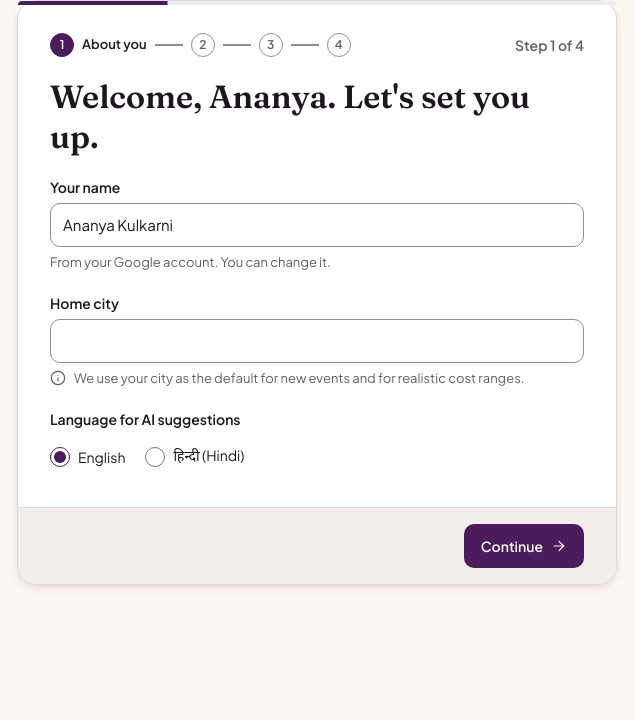
it: OnboardingWizard › asks for name and city first, with an error summary that stays in sync
expect the heading "Welcome, Ananya. Let's set you up." is shown: met, box x1=50 y1=77 x2=584 y2=157
expect the field labelled "Your name" holds "Ananya Kulkarni": met, box x1=50 y1=203 x2=584 y2=247
Click the button "Continue": x=524, y=546 x1=464 y1=524 x2=584 y2=568
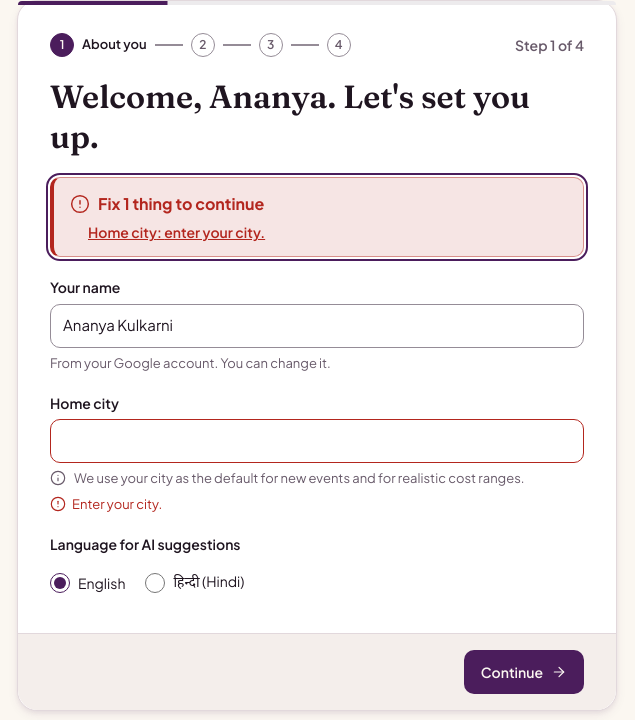
expect the message shows "Fix 1 thing to continue": met, box x1=98 y1=193 x2=264 y2=214
In the dropdown labelled "Home city": x=317, y=441 x1=50 y1=419 x2=584 y2=463, type "Pune"
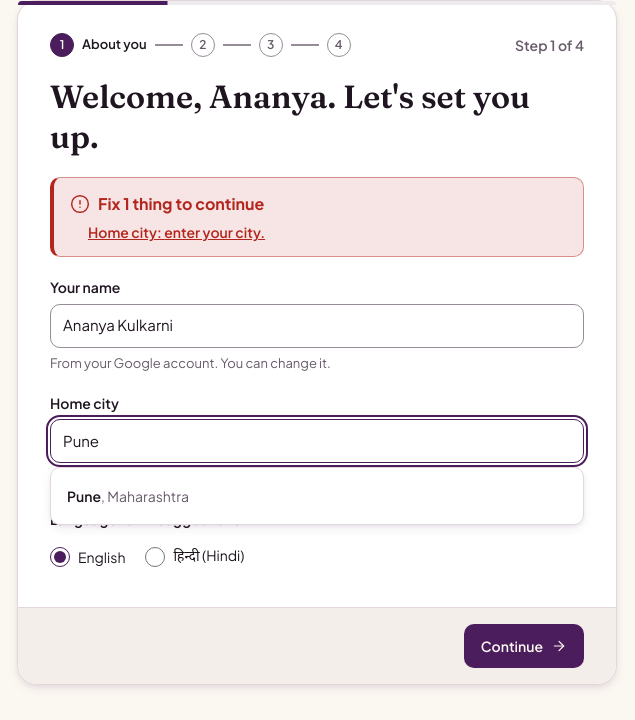
expect the dropdown labelled "Home city" does not have attribute aria-invalid: met, box x1=50 y1=419 x2=584 y2=463
Clear the field labelled "Your name": x=317, y=326 x1=50 y1=304 x2=584 y2=348
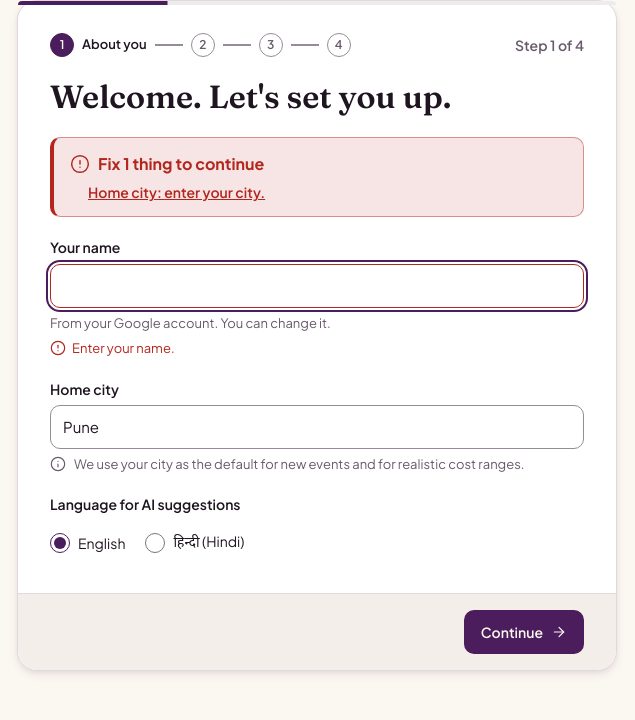
Click the button "Continue": x=524, y=632 x1=464 y1=610 x2=584 y2=654
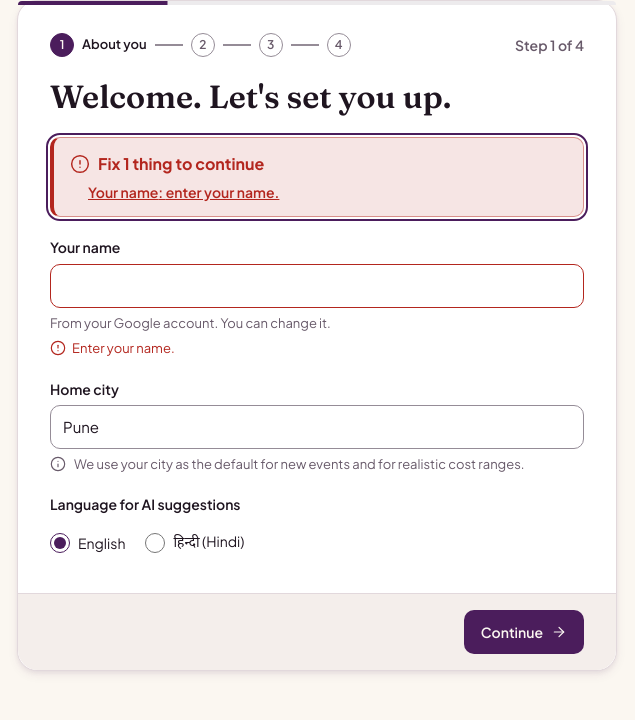
expect the message shows "Your name: enter your name.": met, box x1=50 y1=137 x2=584 y2=217
